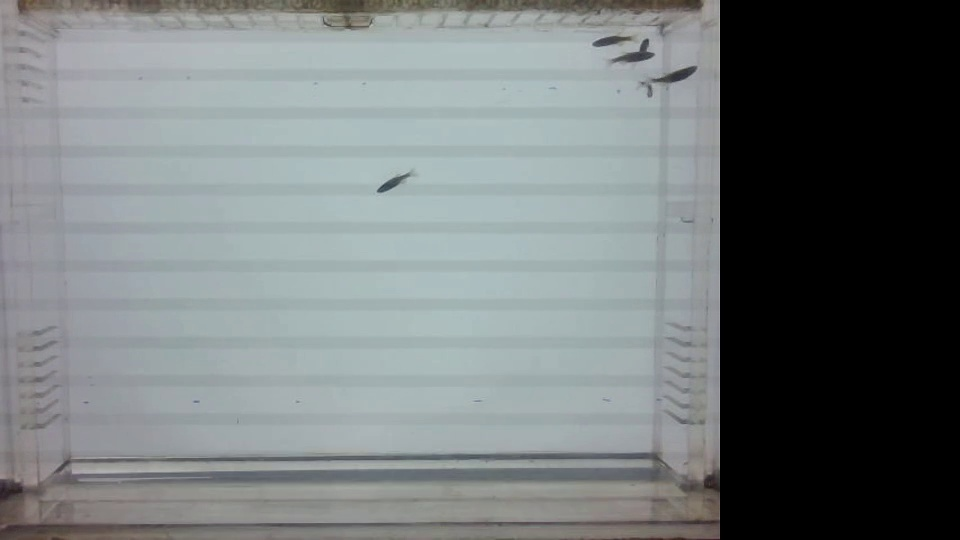fish: (373, 164, 432, 208), (649, 64, 694, 89), (632, 74, 662, 105), (588, 32, 630, 50), (612, 50, 652, 65), (636, 32, 656, 54)
